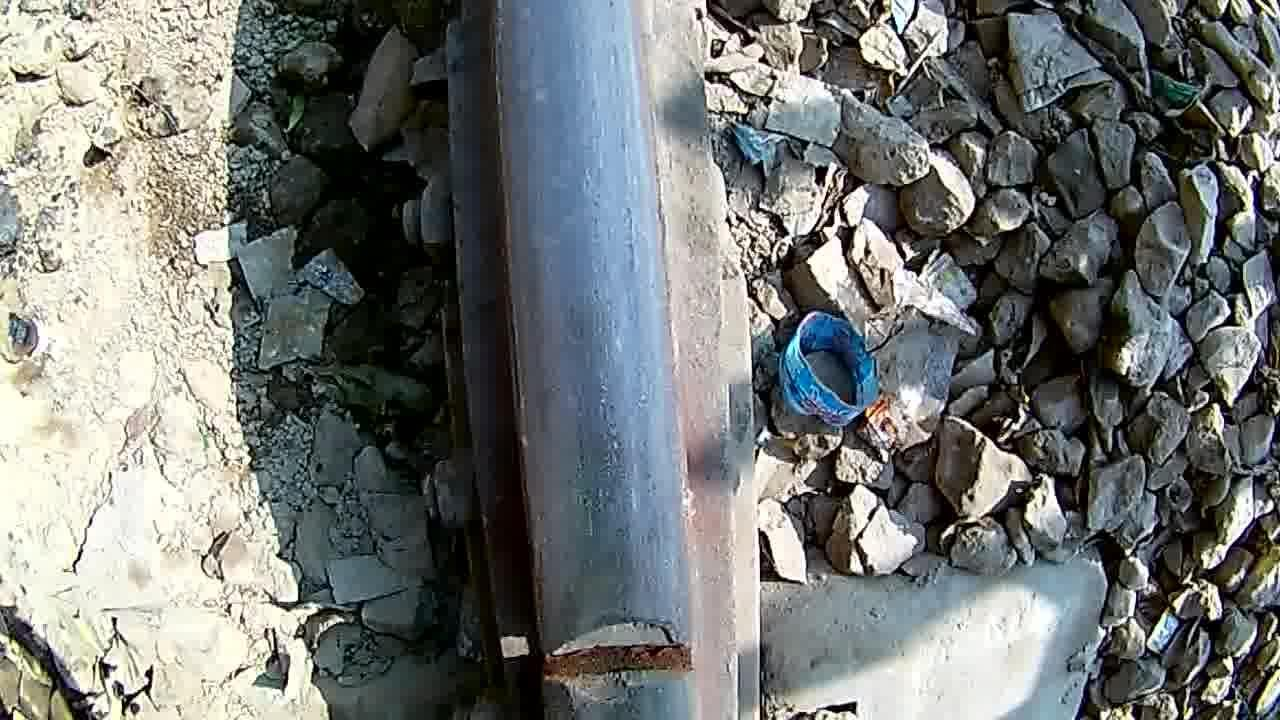crack: (499, 584, 702, 720)
